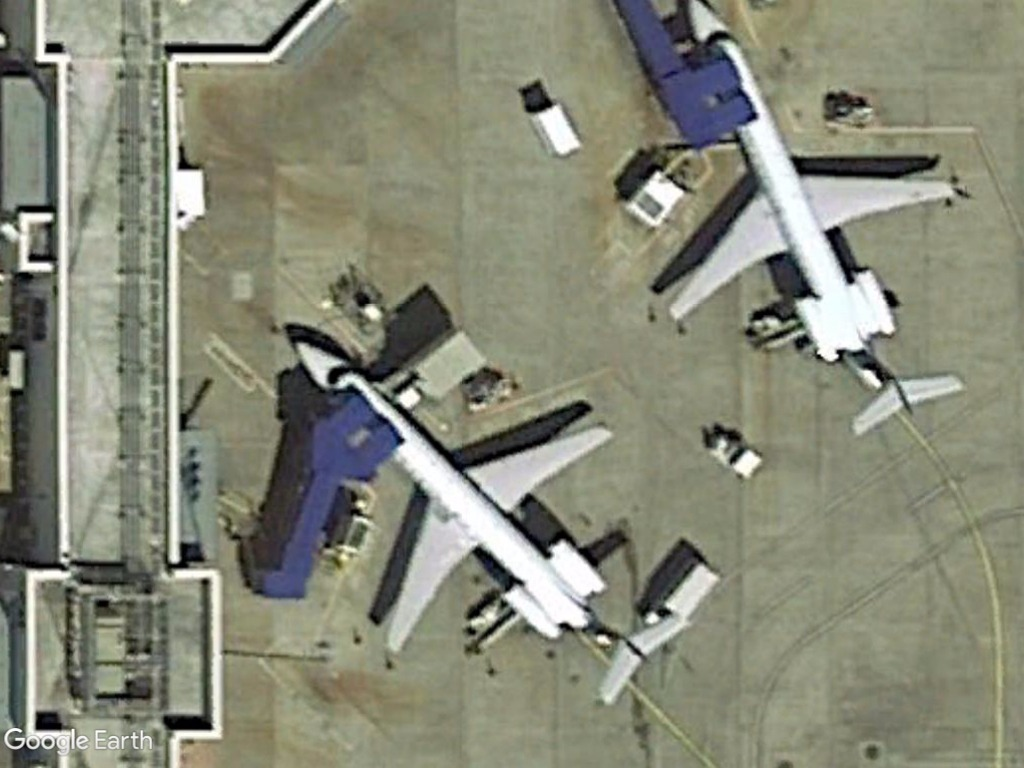chartered: (289, 334, 694, 715), (660, 0, 970, 434)
